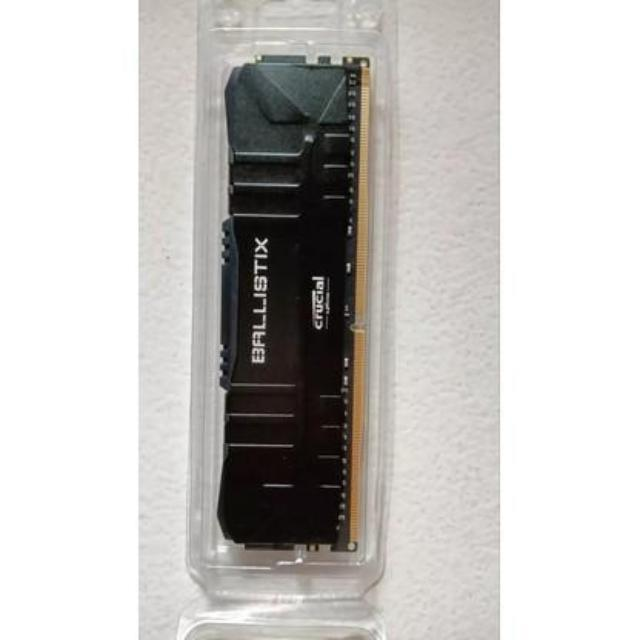RAM: (203, 41, 374, 566)
